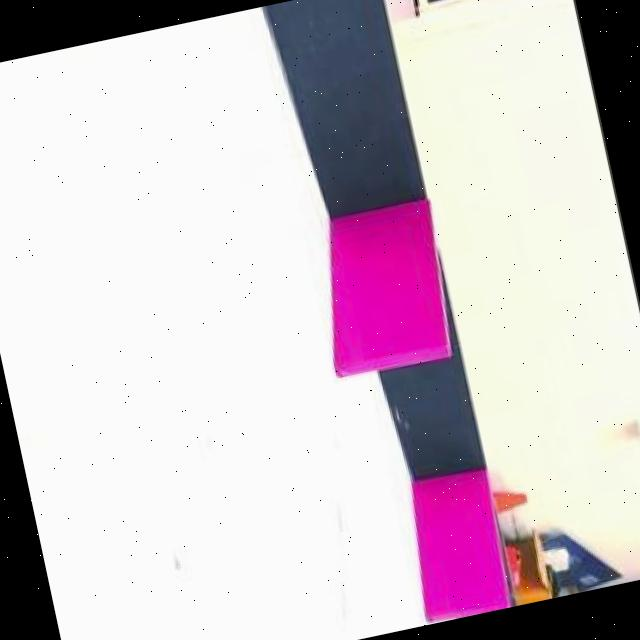xparking: (309, 199, 455, 377), (407, 469, 512, 622)
